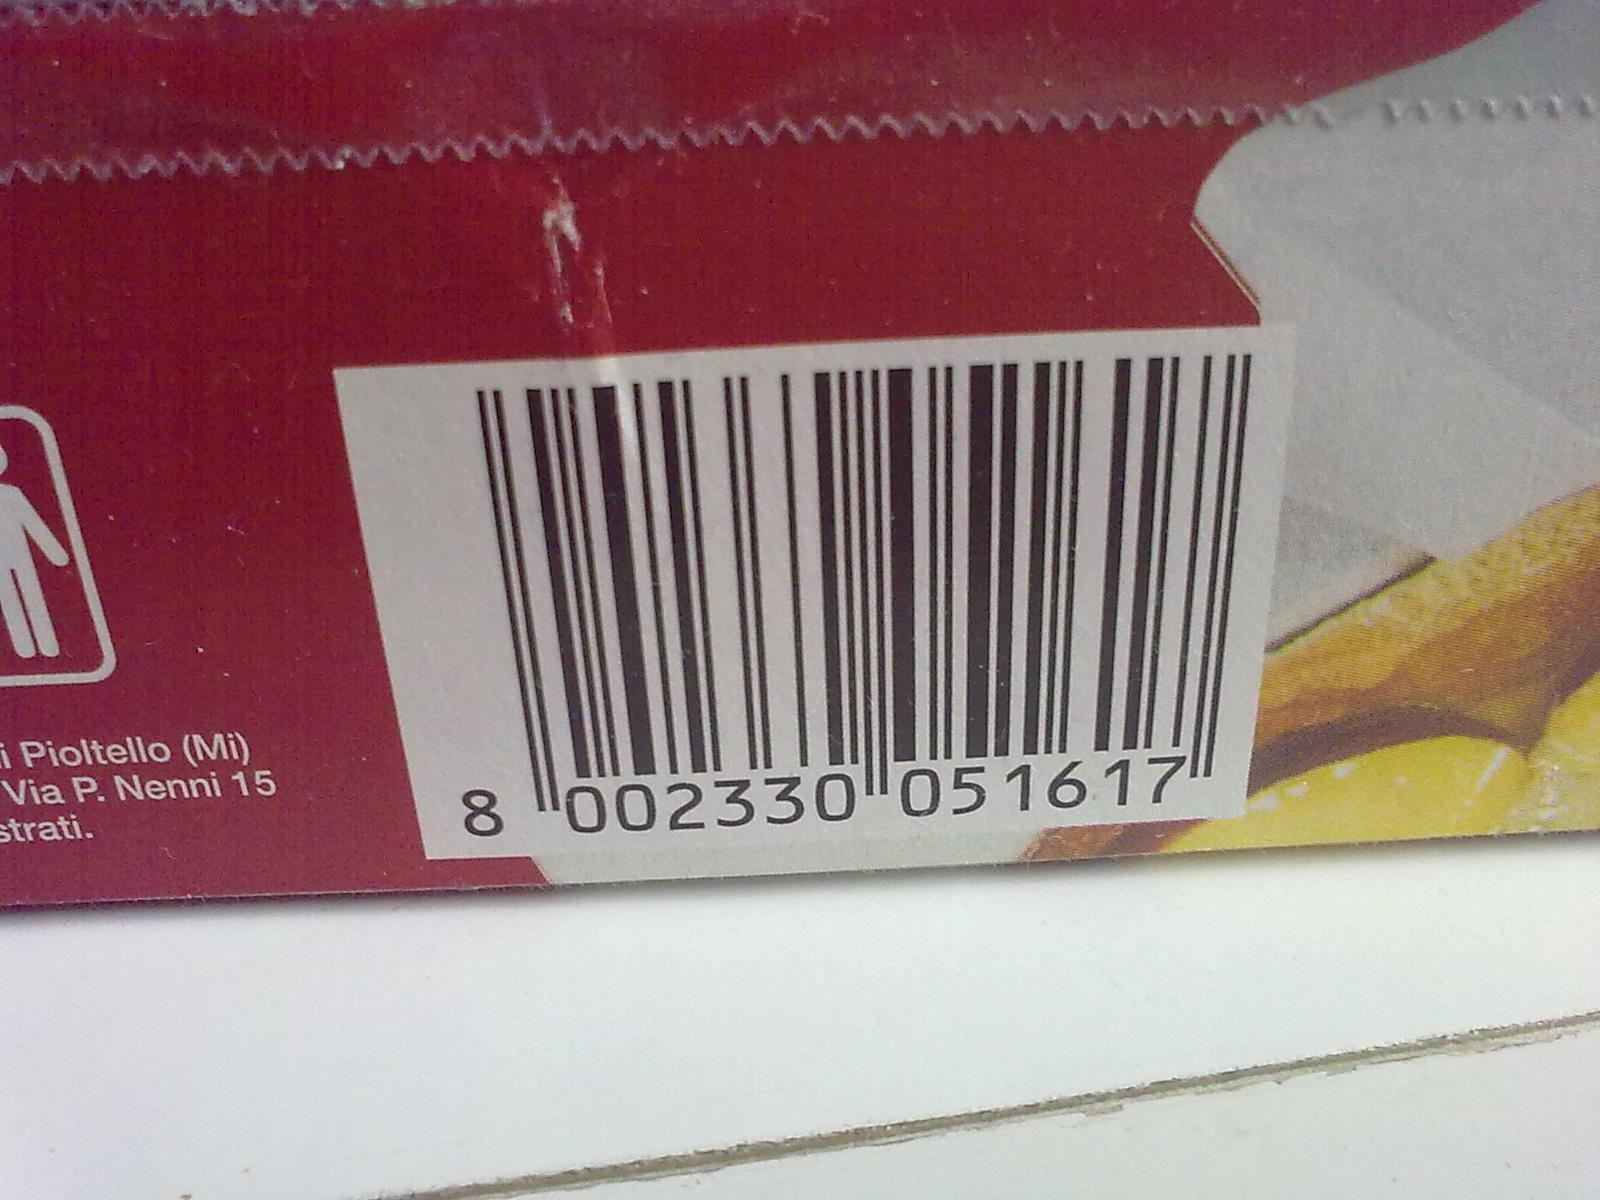barcode: (331, 324, 1288, 858)
